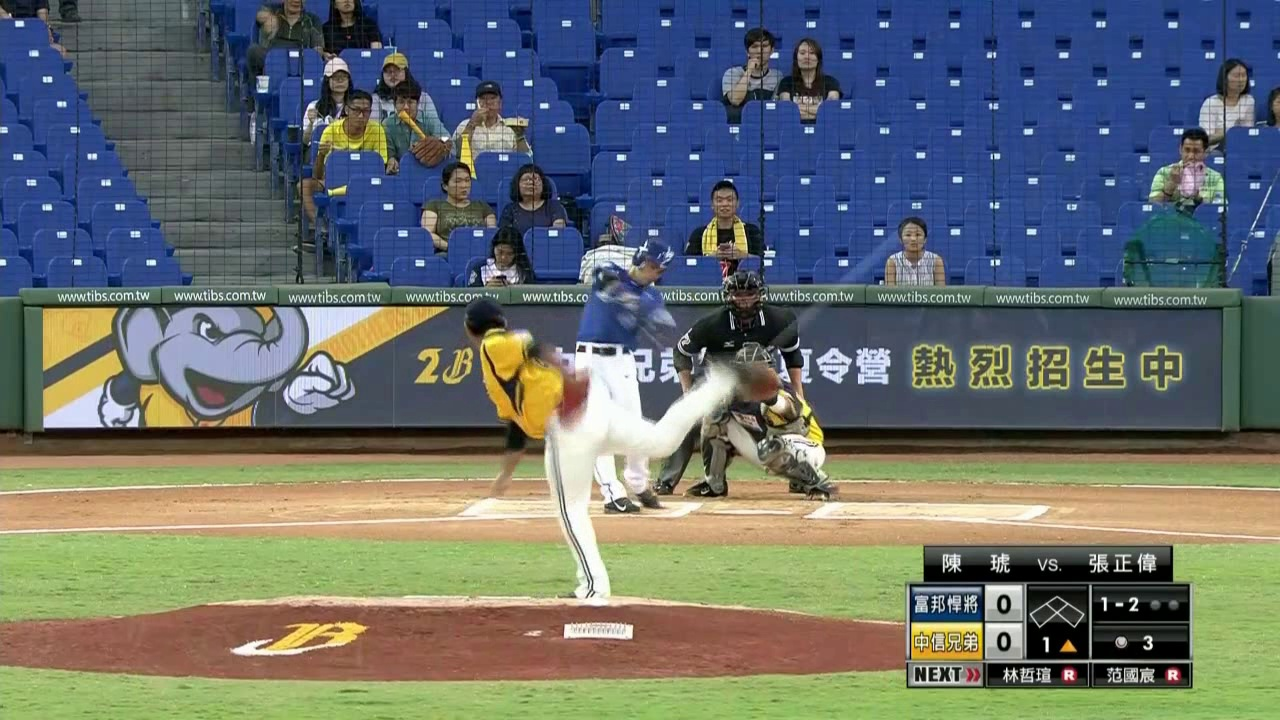ball: (800, 310, 810, 328)
base: (1027, 588, 1087, 634)
bat: (631, 312, 707, 379)
out: (1145, 589, 1188, 616)
score1: (987, 588, 1018, 621)
score2: (991, 624, 1018, 658)
session: (1027, 634, 1085, 657)
strikeball: (1092, 585, 1140, 620)
total: (1111, 631, 1157, 653)
